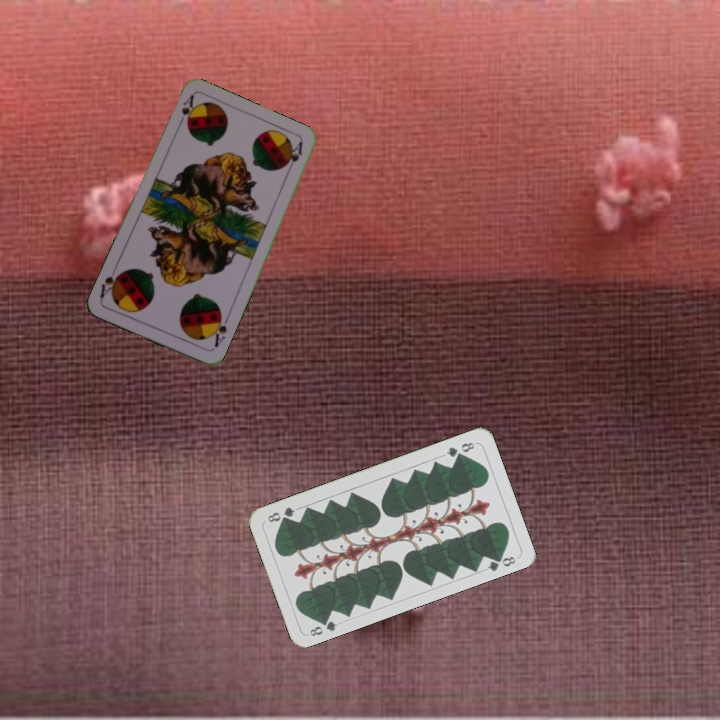G8: (305, 614, 340, 639), (442, 438, 477, 460)
SA: (206, 310, 231, 350), (174, 91, 198, 130)
